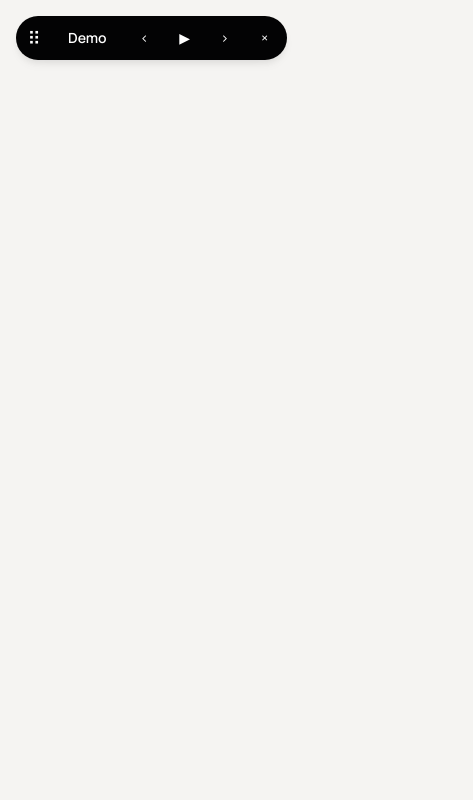
Test: DemoGuide › aparece com ?demo, abre com os cenários e fecha com Esc devolvendo o foco
The image size is (473, 800).
Click the button "Demo". click: {"x": 87, "y": 38}
box: [52, 20, 123, 56]
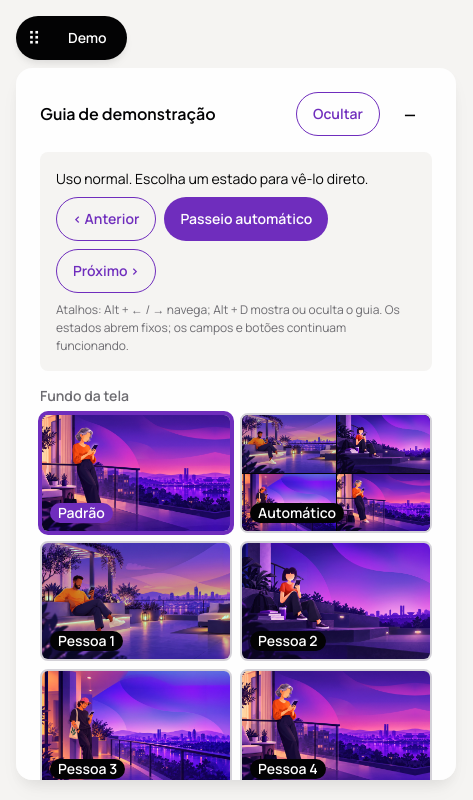
Press Escape
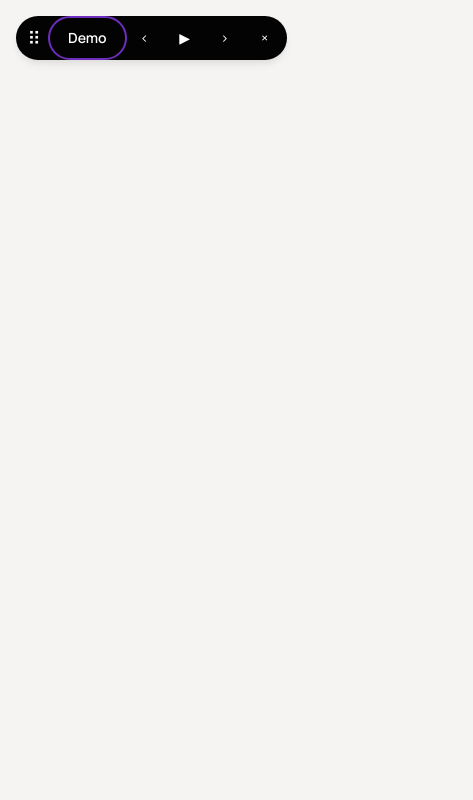
Expected: the heading "Guia de demonstração" is gone
